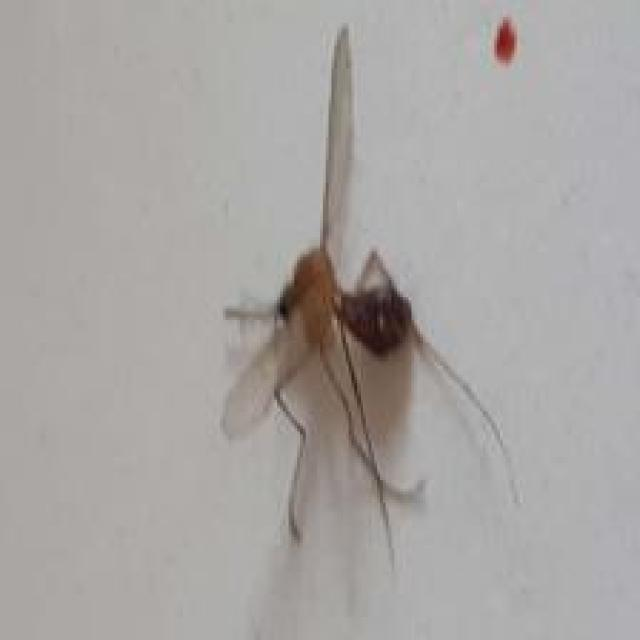Culex: (218, 20, 522, 574)
